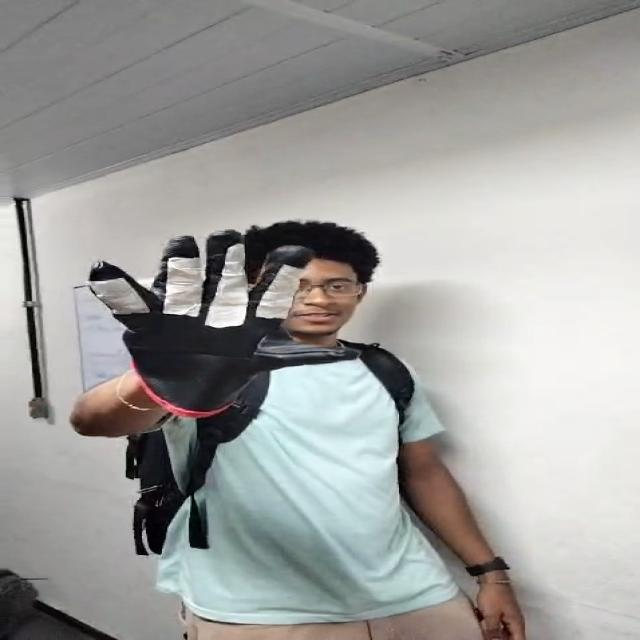Gloves: (94, 232, 351, 412)
